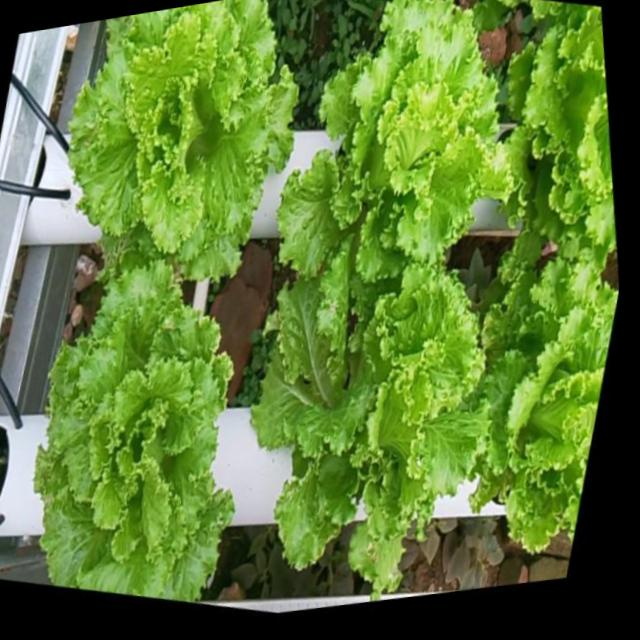Mature: (229, 266, 487, 594), (35, 254, 236, 599), (279, 0, 511, 279), (69, 0, 298, 279), (472, 254, 619, 547), (507, 5, 616, 276)
